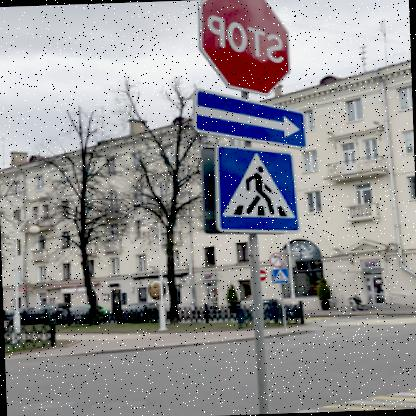crosswalk: (217, 142, 304, 235)
stop: (197, 0, 298, 101)
